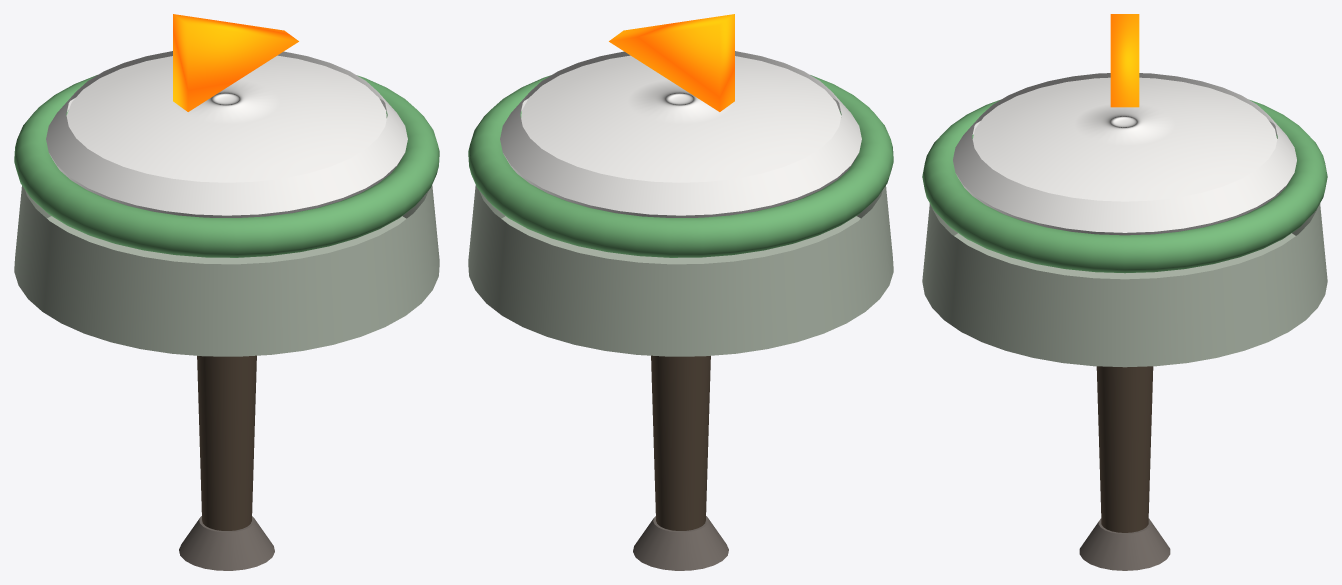
The model's file is pin-start.glb.
3 renders of one model, left to right at view 1: azimuth 30°, elevation 25°; view 2: azimuth 150°, elevation 25°; view 3: azimuth 270°, elevation 25°, orthographic. The views are drawn at different scales.
Parts seen in each view (by area): view 1: start_head, start_plate_dome, start_ring, start_plate_bevel, start_stem, start_play, start_foot, start_collar, start_plate_wall; view 2: start_head, start_plate_dome, start_ring, start_plate_bevel, start_stem, start_play, start_foot, start_collar, start_plate_wall; view 3: start_head, start_plate_dome, start_ring, start_plate_bevel, start_stem, start_foot, start_play, start_collar, start_plate_wall.
Part boxes in pixels (x1,y1,x2,y2): start_head: (14,185,439,356); start_plate_dome: (66,55,386,182); start_ring: (14,75,439,257); start_plate_bevel: (46,51,407,215); start_stem: (197,355,256,530); start_play: (173,14,298,111); start_foot: (179,516,274,570); start_collar: (138,249,315,264); start_plate_wall: (49,98,404,217); start_head: (468,185,893,356); start_plate_dome: (521,55,841,182); start_ring: (468,75,893,257); start_plate_bevel: (500,51,861,215); start_stem: (651,355,710,530); start_play: (609,14,734,111); start_foot: (633,516,728,570); start_collar: (592,249,769,264); start_plate_wall: (503,98,858,217); start_head: (922,203,1327,367); start_plate_dome: (972,77,1277,201); start_ring: (922,99,1327,273); start_plate_bevel: (953,73,1296,232); start_stem: (1096,366,1153,532); start_foot: (1079,518,1170,570); start_play: (1110,14,1139,107); start_collar: (1040,265,1209,279); start_plate_wall: (956,121,1293,235).
Bounding box in the file's own units: 0.796 × 1.12 × 0.796.
